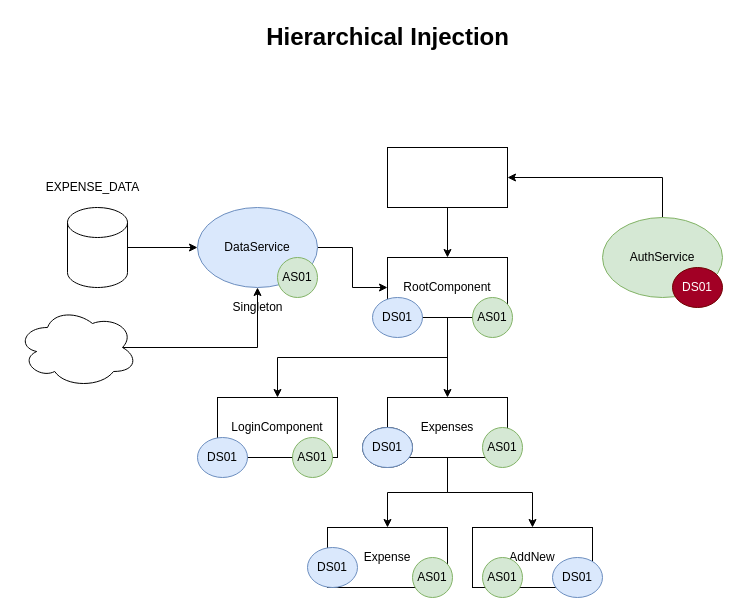
Some shapes in this 740 by 615 pixel diagram are drawn without their labels. Here are the shapes that lost their labels. From the top down, the centre of each, then its label:
point (447, 177): RootModule
point (97, 247): mock.ts
point (77, 347): REST Endpoints
